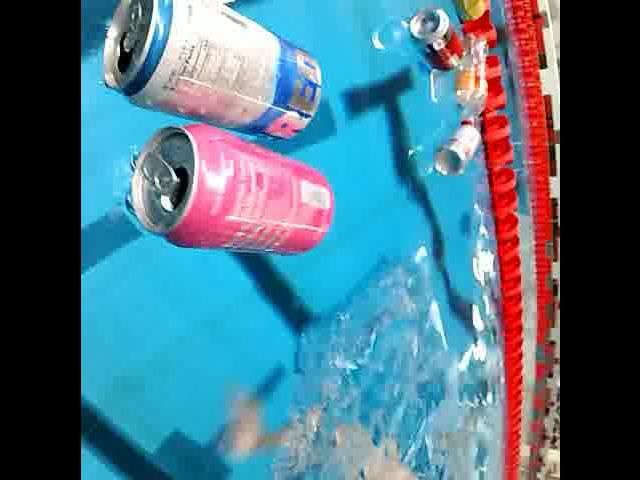Bottle: (455, 27, 489, 131)
Can: (94, 0, 318, 143), (122, 120, 336, 258), (406, 3, 464, 78), (428, 126, 483, 184), (440, 0, 486, 25)
